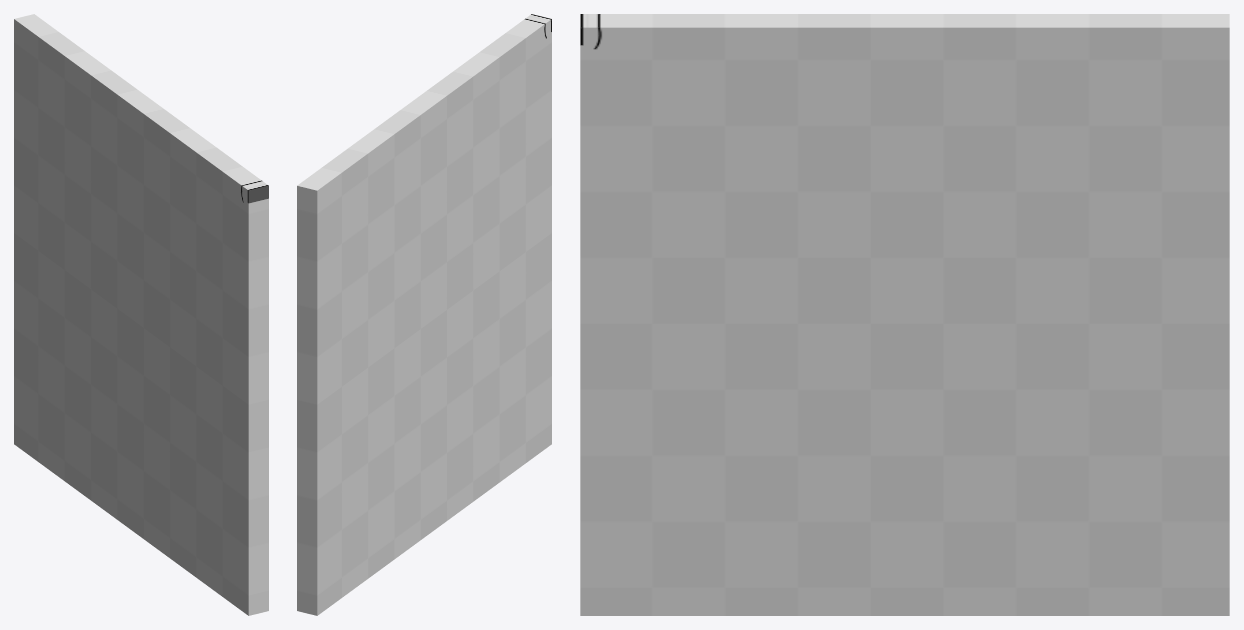
The model's file is enginehall_wall_large.fbx.
3 views of the same model, side by side, from view 1: azimuth 30°, elevation 25°; view 2: azimuth 150°, elevation 25°; view 3: azimuth 270°, elevation 25° (orthographic). The views are drawn at different scales.
Visible parts, largest first — view 1: enginehall_wall_large; view 2: enginehall_wall_large; view 3: enginehall_wall_large.
Part boxes in pixels (x1,y1,x2,y2): enginehall_wall_large: (14,14,268,615); enginehall_wall_large: (297,14,551,615); enginehall_wall_large: (580,14,1229,615).
Bounding box in the file's own units: 20 × 400 × 400.
